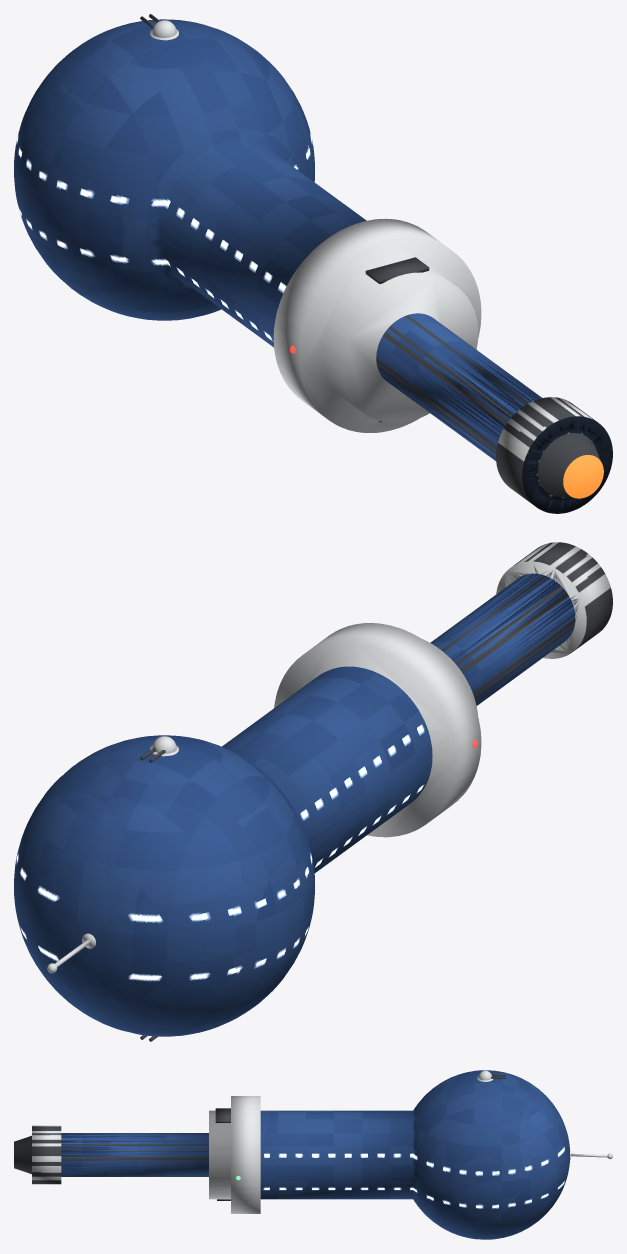
The model's file is earth_frigate.glb.
3 views of the same model, one above another, from view 1: azimuth 30°, elevation 25°; view 2: azimuth 150°, elevation 25°; view 3: azimuth 270°, elevation 25° (orthographic). The views are drawn at different scales.
Visible parts, largest first — view 1: EarthFrigate; view 2: EarthFrigate; view 3: EarthFrigate.
Boxes of the visible parts, <box> form: EarthFrigate: <box>14,14,612,513</box>; EarthFrigate: <box>14,542,612,1041</box>; EarthFrigate: <box>14,1070,612,1239</box>.
Size of the model in its own units: 11.49 by 12.52 by 40.62.
Materials: 1 (1 with a texture image).
